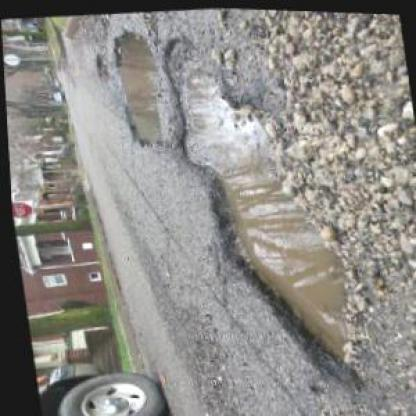pothole: (157, 18, 370, 394), (106, 22, 166, 147), (88, 48, 108, 78)
